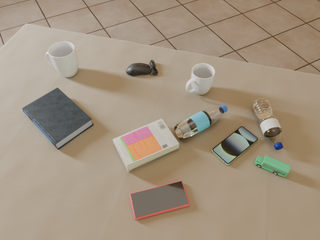book: (22, 88, 94, 150), (113, 119, 179, 172)
bottle: (174, 105, 227, 140), (252, 98, 283, 150)
cup: (45, 42, 78, 77), (186, 63, 215, 95)
mouse: (126, 59, 158, 76)
phone: (130, 181, 190, 220), (212, 127, 258, 165)
toy_car: (255, 155, 291, 177)
